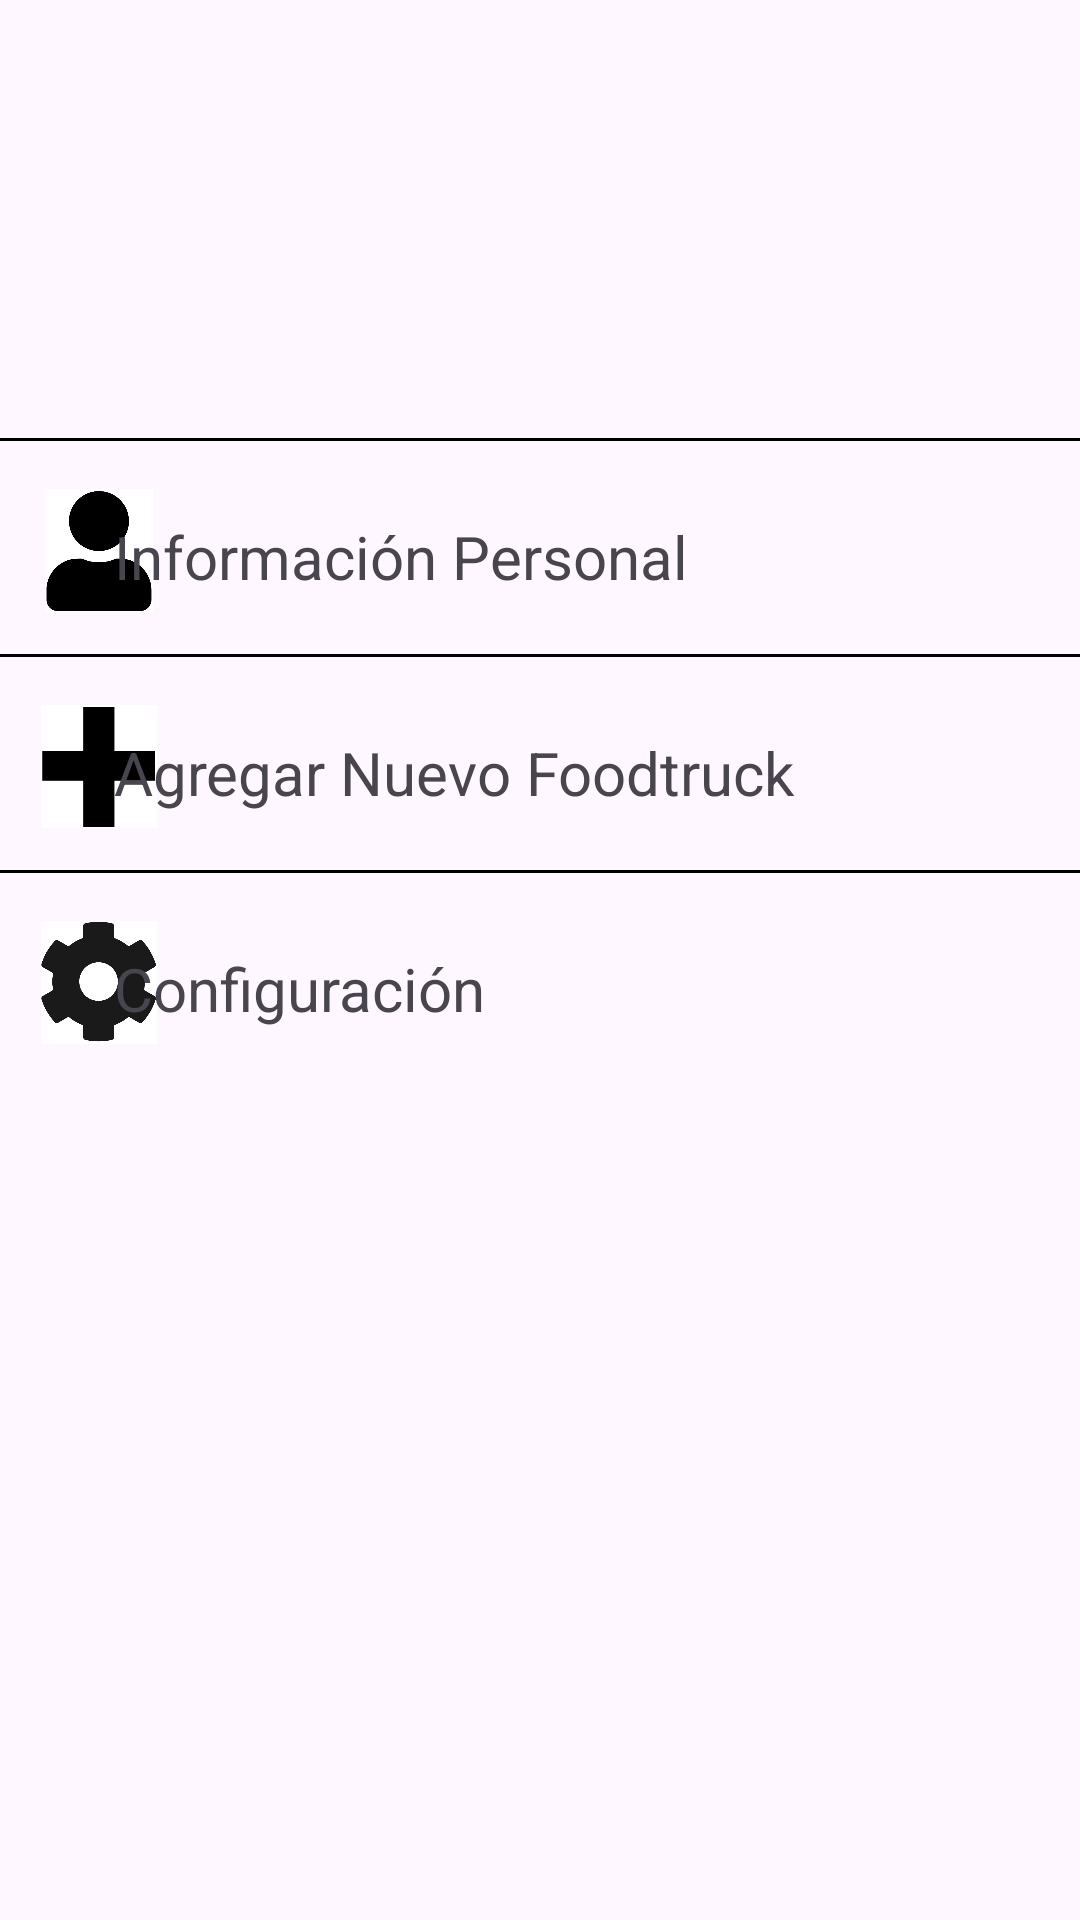

Locate icon controls on the screen. Image size 1080 x 1920, boxes as region(x1, y1, x2, y2).
herramienta: region(41, 922, 185, 1042)
user: region(46, 491, 184, 611)
